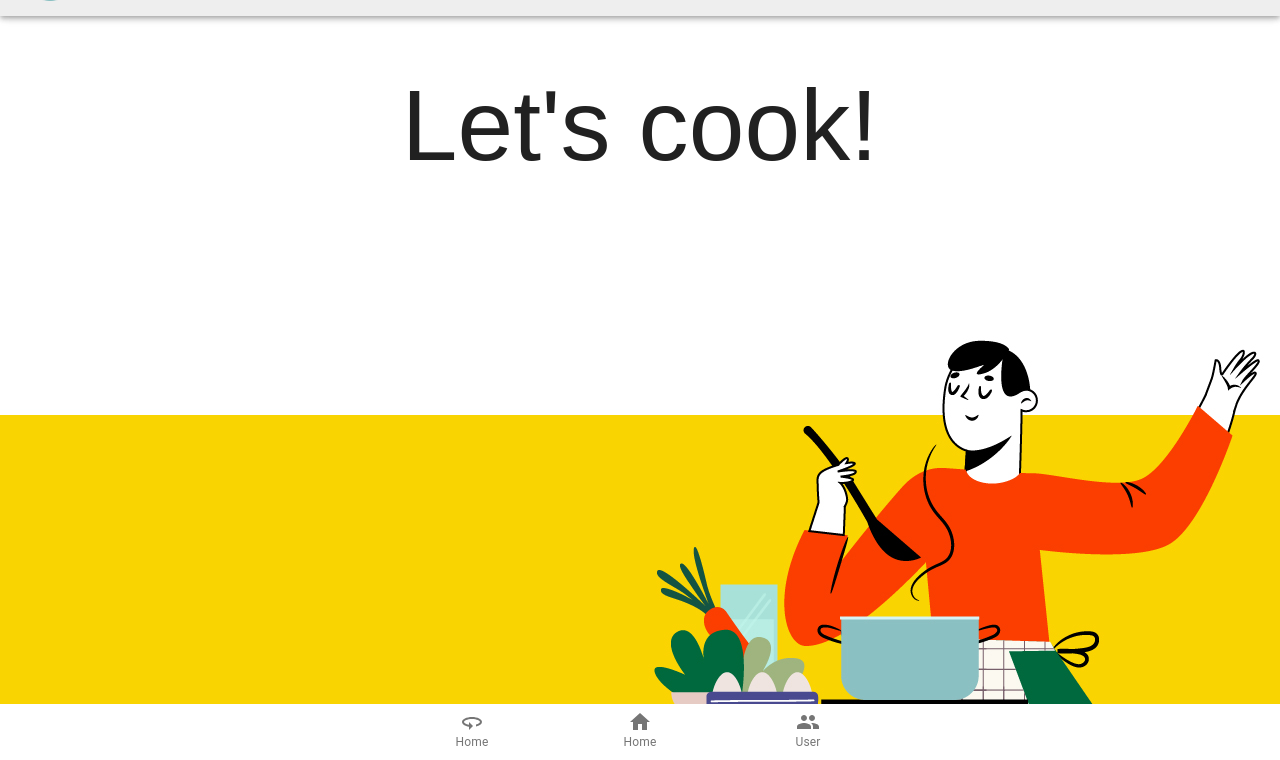
BotNav › navigates to the /create_order page
(page scrolled)
What coordinates should you click on to do the following:
click the button with test id "bottomNavAction3"
I would click on:
 (808, 730)
Its box is [796, 710, 820, 749].
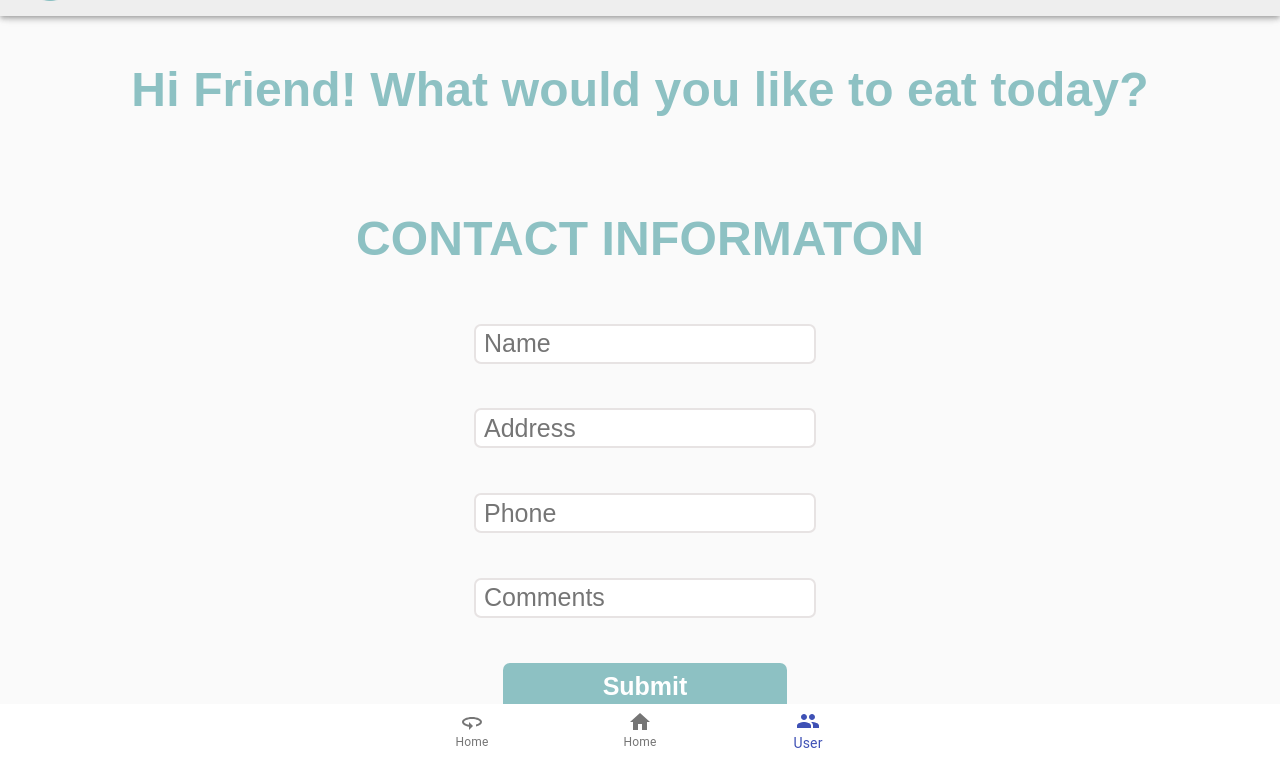
Result: the form with test id "orderForm" is shown
